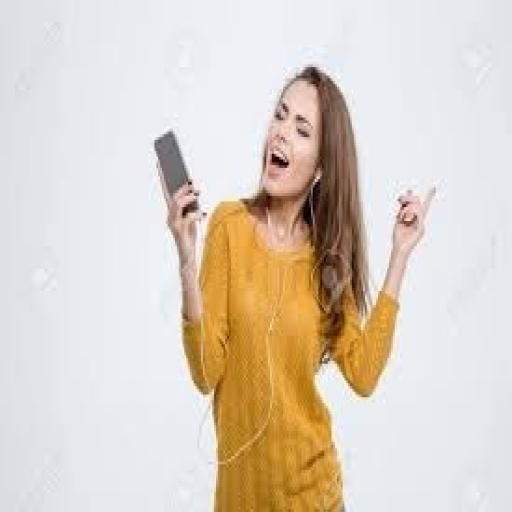listening_to_music: (162, 62, 438, 509)
